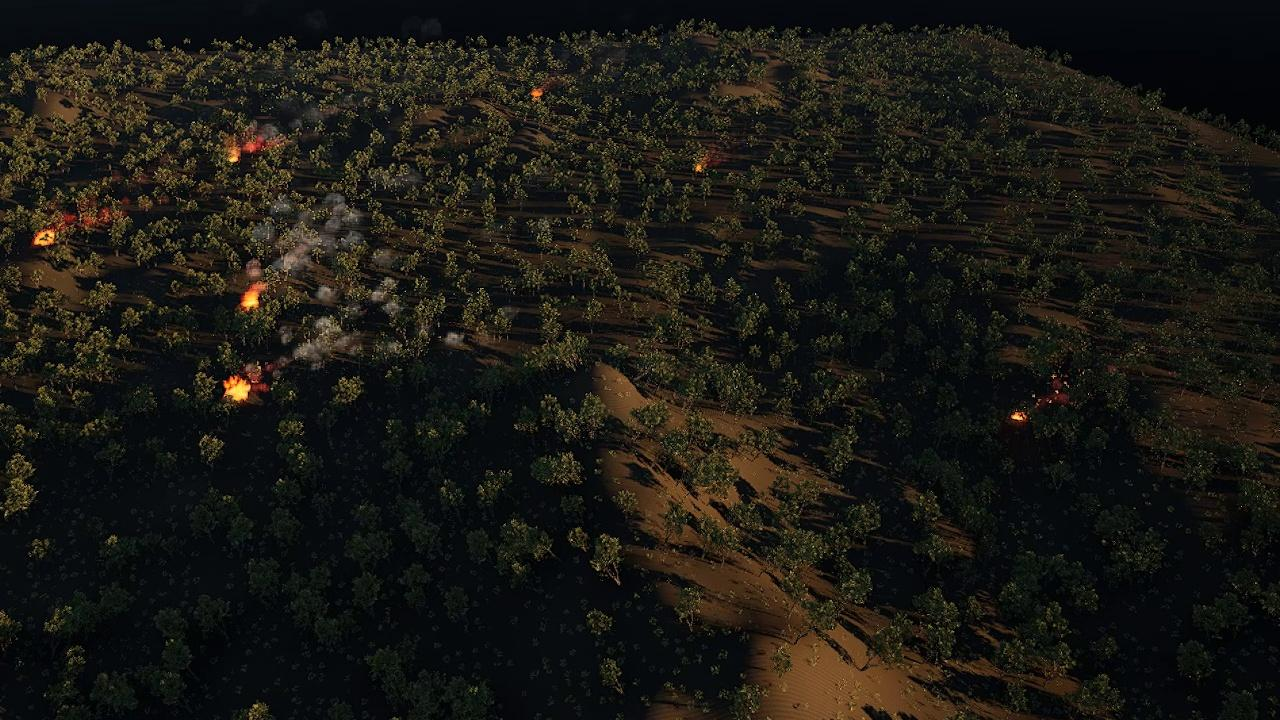fire: (233, 136, 268, 164), (228, 376, 260, 404), (238, 285, 260, 312), (30, 228, 54, 247), (1008, 410, 1027, 422), (533, 86, 543, 99), (695, 162, 705, 171)
smoke: (249, 189, 404, 309), (246, 316, 473, 382), (55, 170, 150, 237), (245, 107, 324, 150), (1036, 377, 1070, 408)
